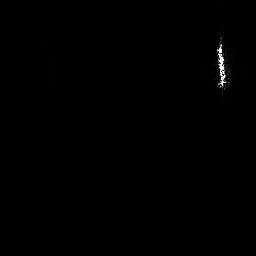ship: (215, 39, 227, 89)
